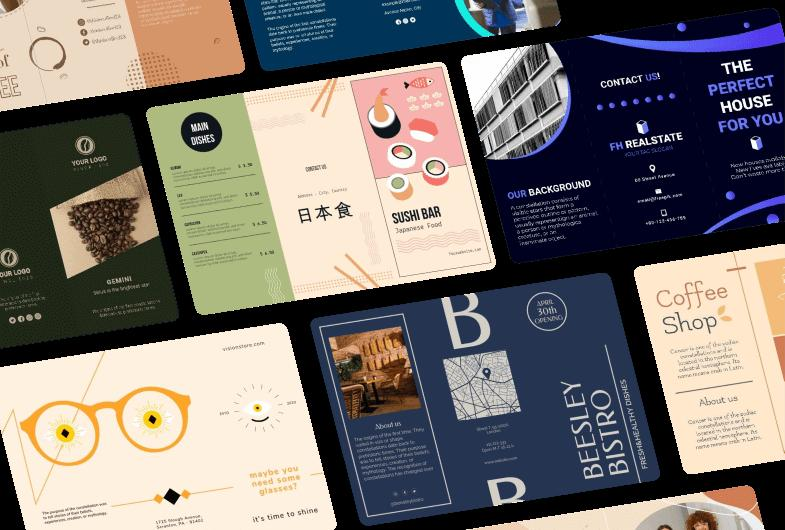paper: (39, 0, 785, 530)
